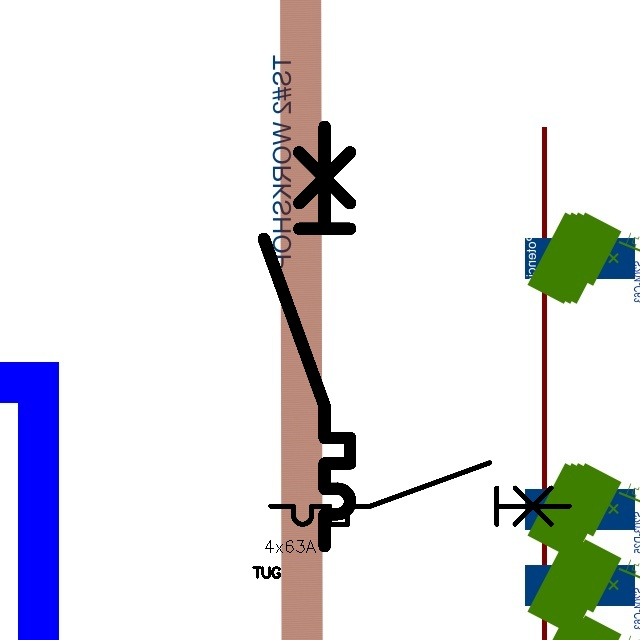interruptor_termomagnetico: (253, 116, 361, 557), (263, 455, 577, 532)
